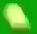white: (0, 0, 37, 34)
